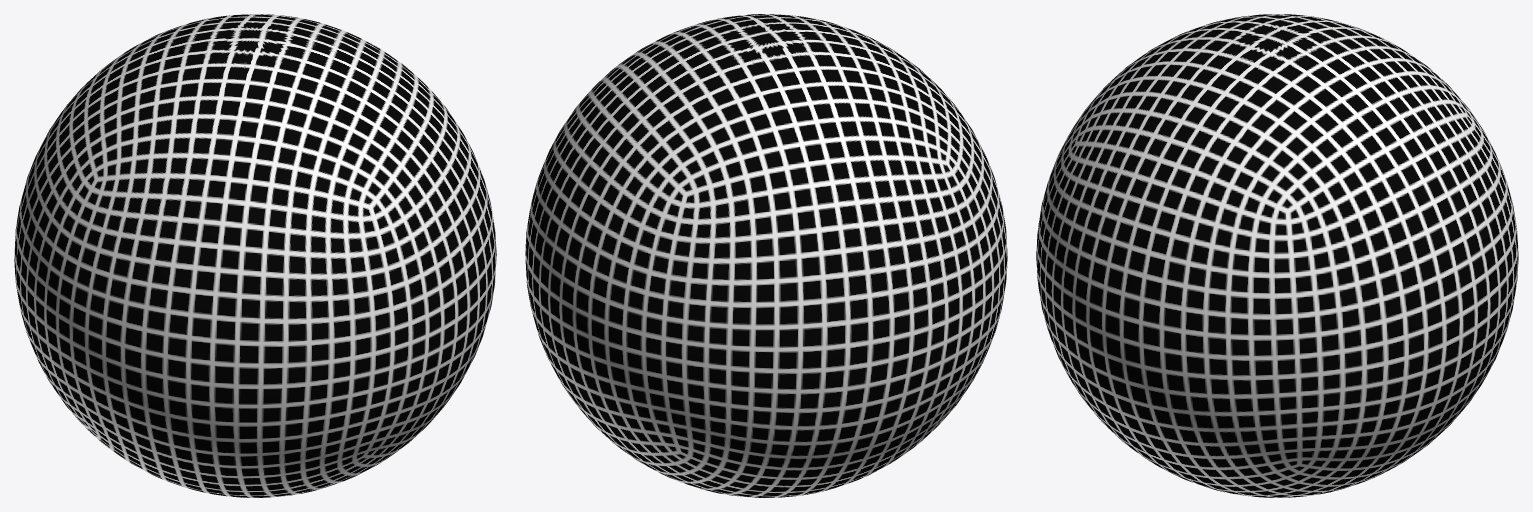
File: Ball Max.fbx
3 renders of one model, left to right at view 1: azimuth 30°, elevation 25°; view 2: azimuth 150°, elevation 25°; view 3: azimuth 270°, elevation 25°, orthographic.
Visible parts, largest first — view 1: Sphere001, Object001; view 2: Object001, Sphere001; view 3: Sphere001, Object001.
Part boxes in pixels (<box>): Sphere001: <box>46,30,496,497</box>; Object001: <box>14,14,385,445</box>; Object001: <box>525,30,975,497</box>; Sphere001: <box>636,14,1007,445</box>; Sphere001: <box>1036,14,1277,497</box>; Object001: <box>1277,14,1518,497</box>.
Bounding box in the file's own units: 123 × 125 × 123.
Materials: 1 (1 with a texture image).
